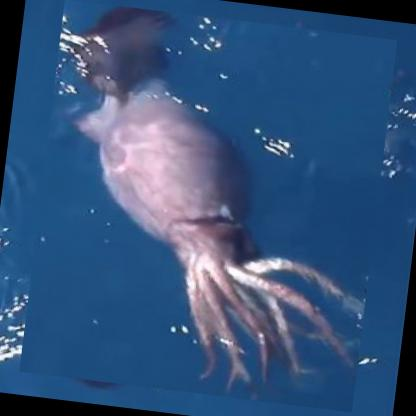colossal_squid: (18, 0, 398, 413)
